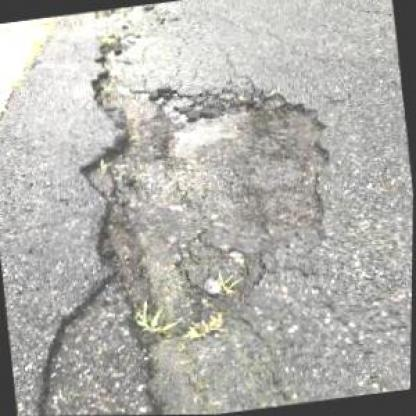pothole: (57, 14, 356, 353)
